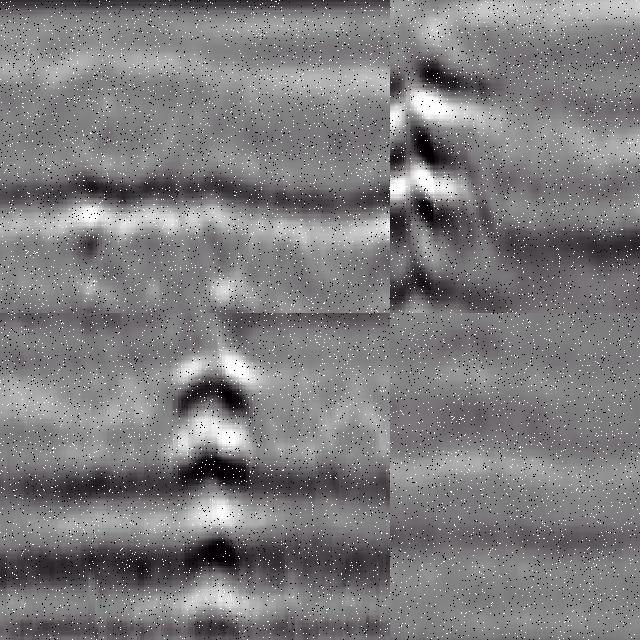crack: (170, 314, 249, 640)
loose: (391, 17, 521, 314)
